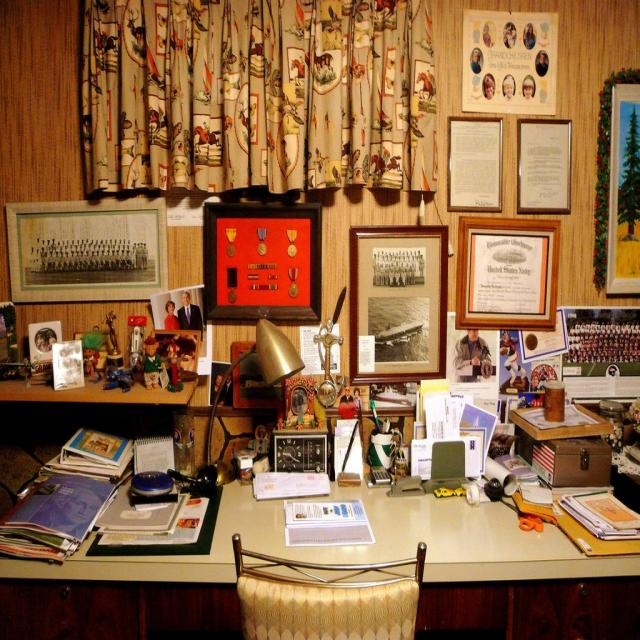chair: (232, 536, 427, 639)
desk: (1, 483, 637, 635)
